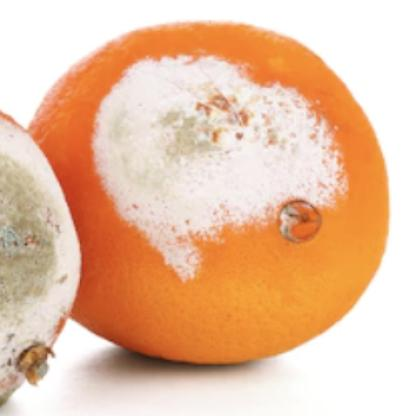rotten: (30, 19, 390, 366)
